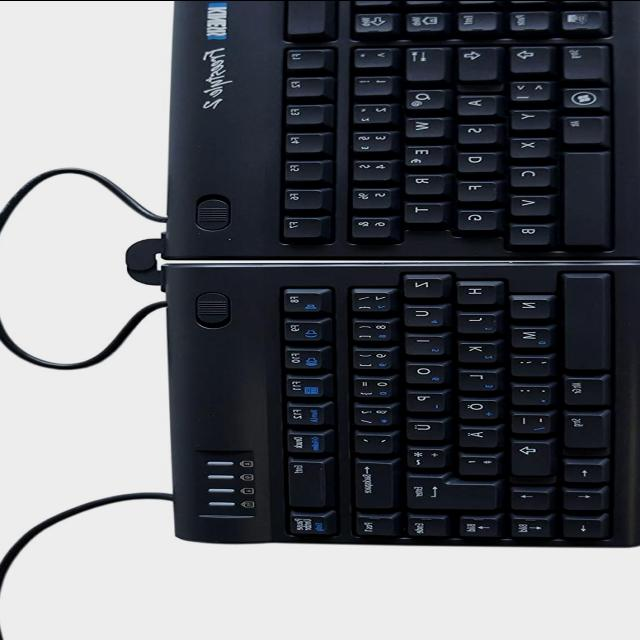0: (349, 375, 395, 397)
1: (350, 73, 391, 93)
2: (349, 102, 391, 122)
3: (349, 129, 392, 151)
4: (348, 158, 391, 178)
5: (347, 186, 391, 208)
6: (347, 214, 391, 237)
7: (346, 287, 392, 311)
8: (348, 318, 394, 341)
9: (347, 346, 395, 369)
a: (451, 93, 494, 113)
accent: (349, 430, 391, 451)
ae: (453, 425, 496, 445)
alt-left: (558, 113, 602, 141)
altgr-right: (557, 373, 603, 403)
b: (507, 223, 550, 245)
c: (504, 163, 548, 185)
caret: (348, 45, 392, 65)
comma: (505, 352, 551, 374)
d: (452, 150, 494, 170)
del: (349, 458, 391, 507)
e: (399, 144, 442, 164)
enter: (400, 472, 496, 508)
f: (452, 179, 495, 199)
g: (454, 209, 497, 231)
h: (455, 281, 499, 303)
hash: (454, 452, 496, 472)
i: (400, 332, 444, 353)
j: (453, 312, 497, 334)
k: (453, 339, 496, 361)
keyboard: (267, 269, 639, 549), (265, 0, 637, 254)
l: (453, 368, 497, 389)
less: (505, 79, 549, 99)
m: (505, 324, 551, 348)
minus: (506, 410, 550, 432)
n: (504, 296, 548, 318)
o: (400, 360, 444, 382)
oe: (454, 396, 496, 418)
p: (400, 389, 442, 409)
plus: (402, 445, 445, 466)
point: (506, 381, 550, 403)
q: (400, 87, 443, 108)
r: (400, 172, 442, 193)
s: (452, 121, 494, 141)
shift-left: (505, 43, 549, 71)
shift-lock: (453, 44, 496, 79)
shift-right: (506, 438, 550, 479)
space: (558, 274, 608, 368), (558, 151, 608, 244)
ss: (349, 403, 395, 425)
strg-left: (558, 41, 606, 78)
strg-right: (559, 409, 605, 447)
t: (399, 200, 443, 223)
tab: (400, 45, 443, 79)
u: (398, 302, 445, 325)
ue: (401, 417, 443, 438)
v: (505, 193, 548, 215)
w: (399, 115, 441, 135)
x: (504, 135, 547, 155)
y: (505, 106, 548, 127)
z: (401, 275, 445, 297)
